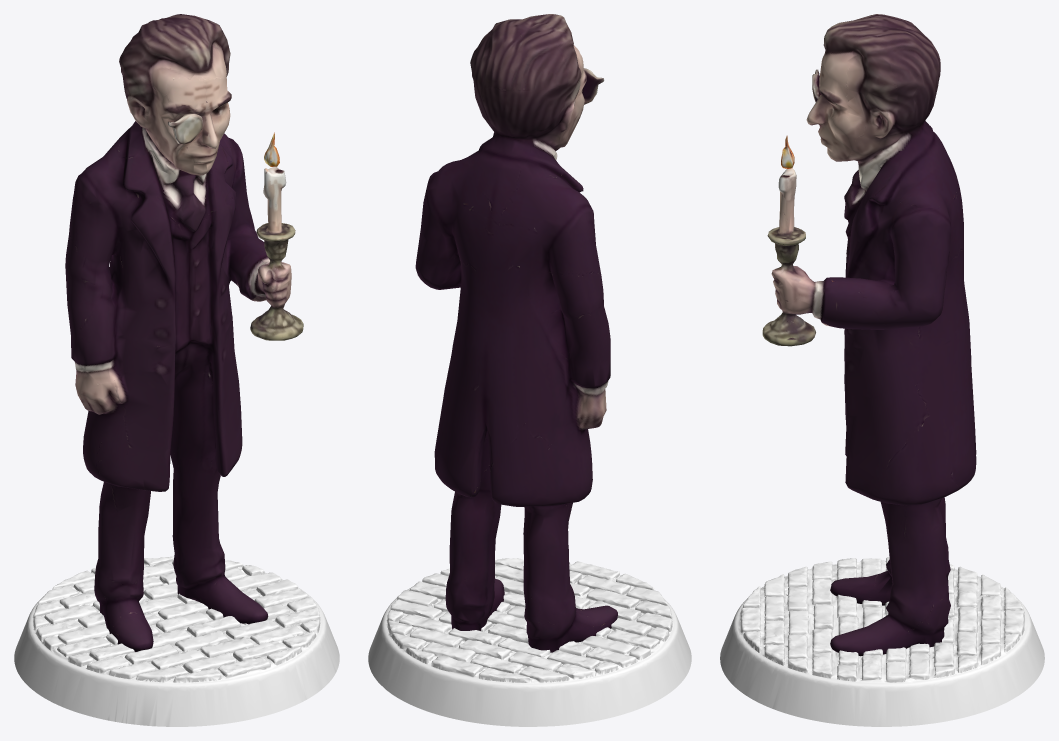
File: diretor_base_acesa.glb
The picture shows the model from 3 angles, left to right: view 1: azimuth 30°, elevation 25°; view 2: azimuth 150°, elevation 25°; view 3: azimuth 270°, elevation 25°; orthographic projection.
Visible parts, largest first — view 1: mesh_node; view 2: mesh_node; view 3: mesh_node.
Boxes of the visible parts, x1,y1,x2,y2 form: mesh_node: (14, 14, 339, 726); mesh_node: (368, 14, 691, 726); mesh_node: (720, 14, 1044, 726).
Bounding box in the file's own units: 0.4318 × 0.9305 × 0.4318.
Materials: 2 (1 with a texture image).
